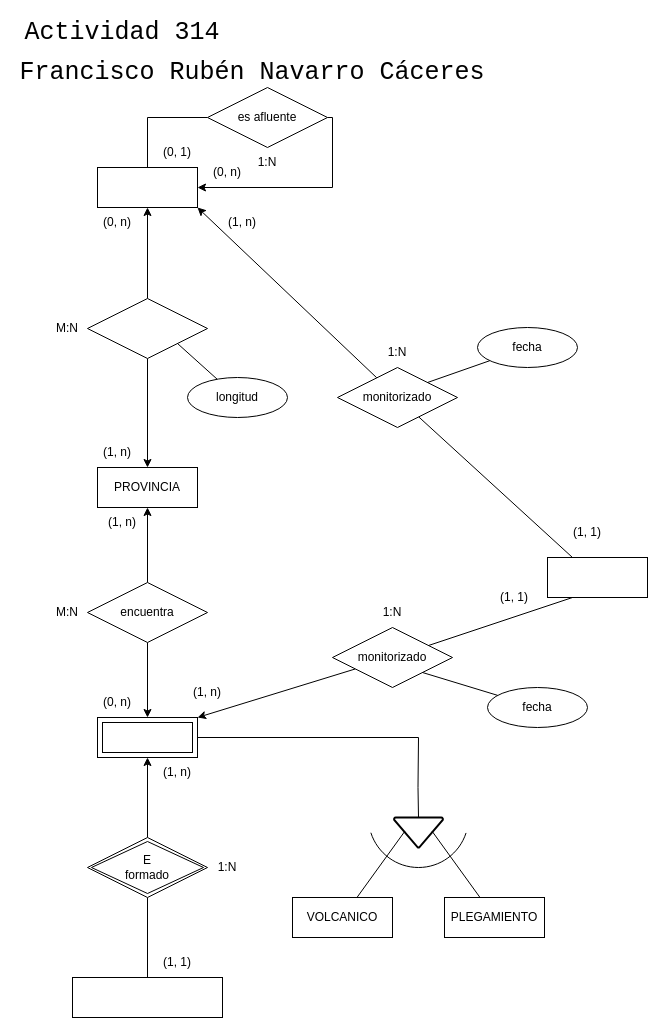
Some shapes in this 665 by 1035 pixel diagram are drawn without their labels. Here are the shapes that lost their labels. From the top down, the box of each, then its label:
(96, 166, 198, 208): RIO
(86, 298, 208, 358): pasa
(546, 556, 648, 598): SATELITE
(96, 716, 198, 758): MONTE
(72, 976, 222, 1018): SISTEMA_MONTAÑOSO
